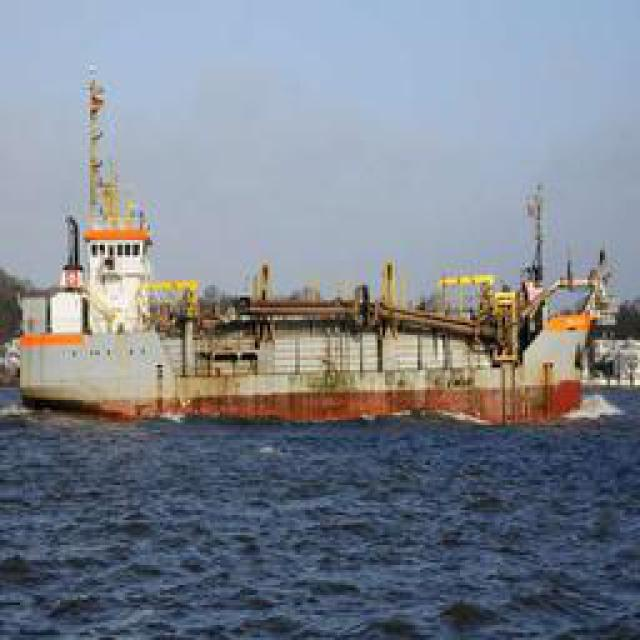Ship: (20, 321, 573, 426)
